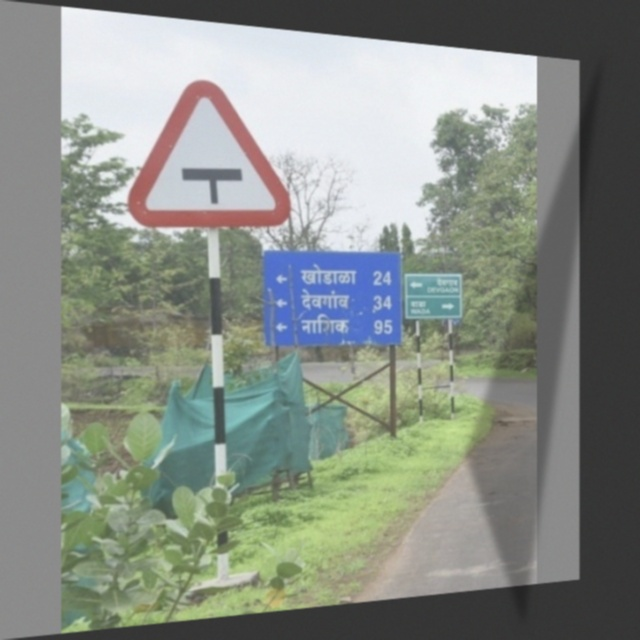T_Intersection: (127, 79, 295, 227)
